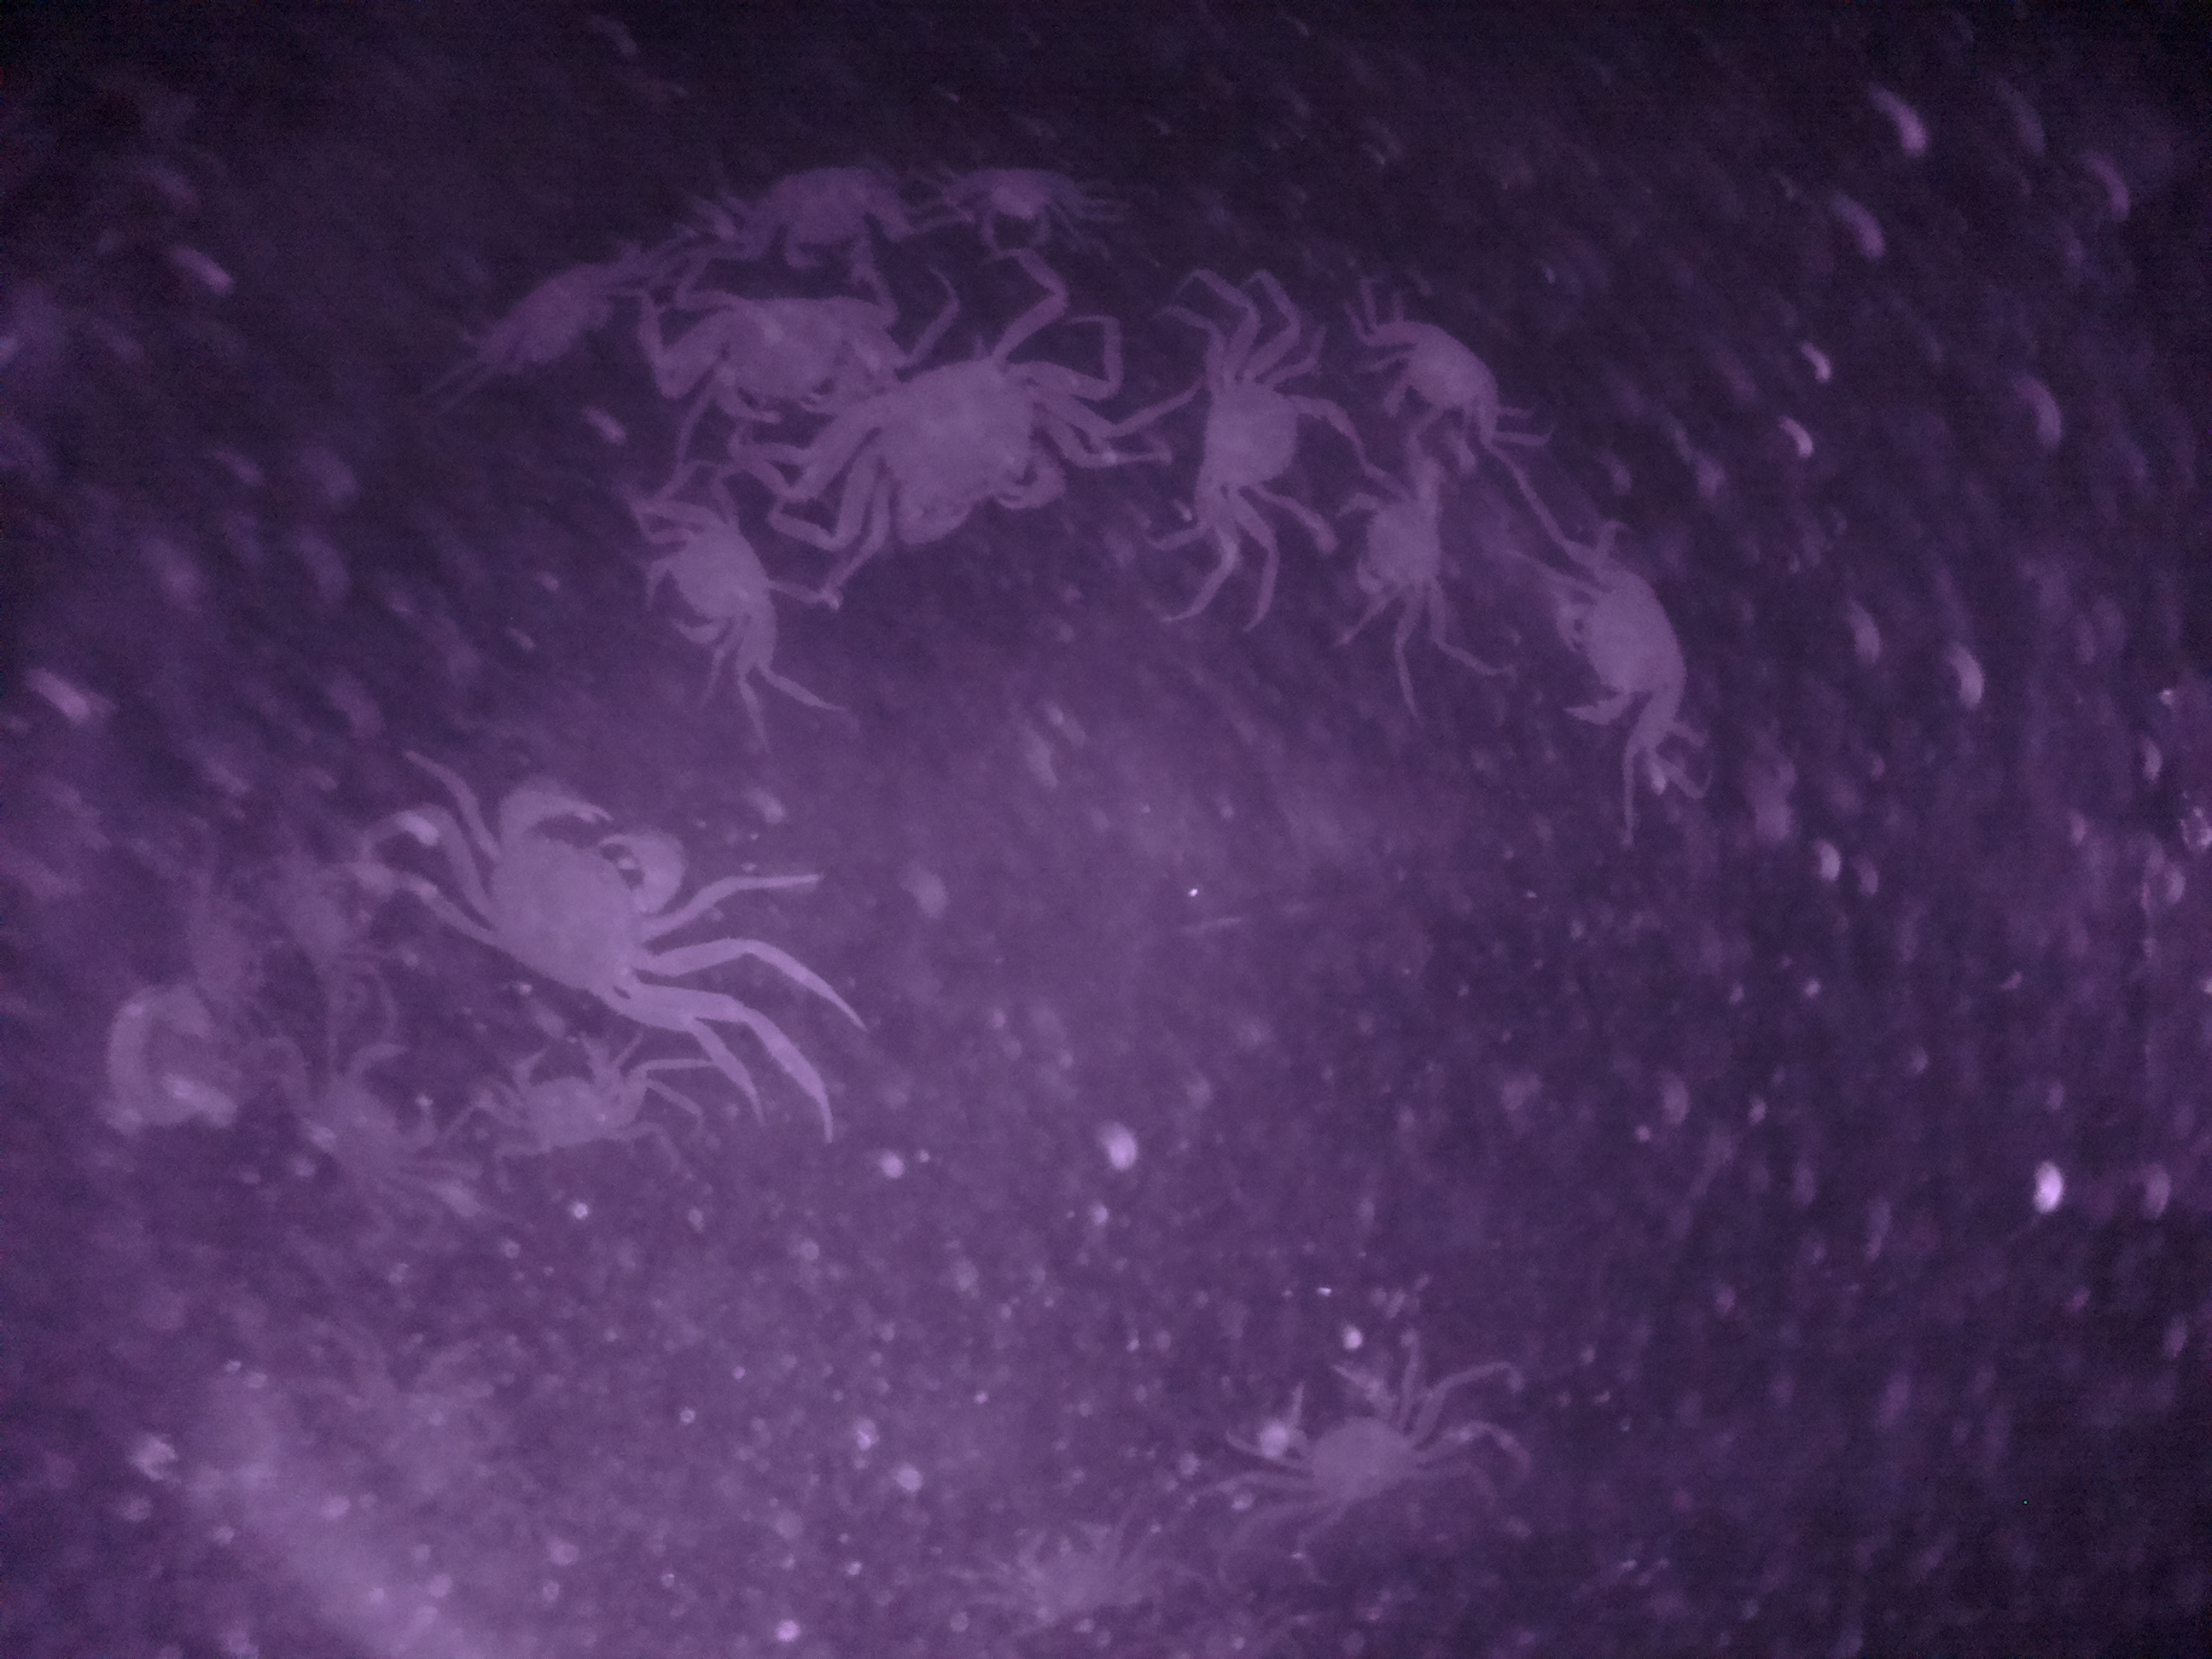Crab: (446, 763, 716, 1019), (834, 338, 1082, 558), (1261, 1354, 1463, 1553), (1534, 552, 1716, 739), (1167, 343, 1329, 518), (631, 502, 792, 666), (1383, 281, 1524, 437), (1329, 483, 1460, 619), (961, 148, 1073, 256)
